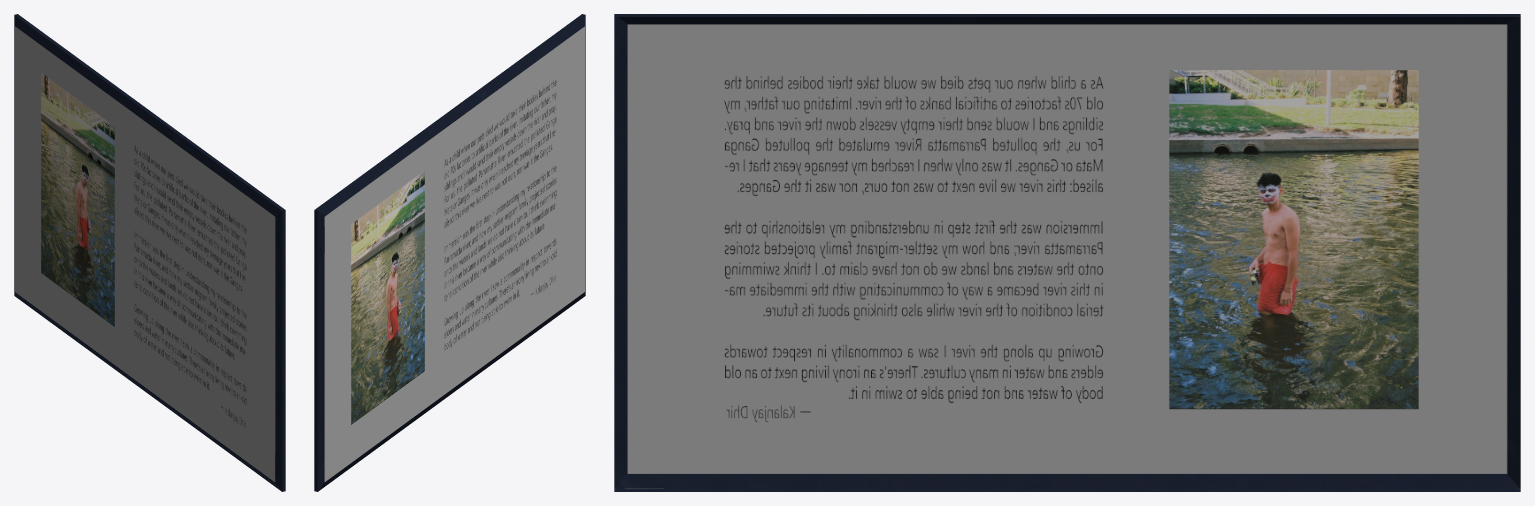
The model's file is Frame.Text.gltf.
The picture shows the model from 3 angles, left to right: view 1: azimuth 30°, elevation 25°; view 2: azimuth 150°, elevation 25°; view 3: azimuth 270°, elevation 25°; orthographic projection. The views are drawn at different scales.
Parts seen in each view (by area): view 1: Frame.Text; view 2: Frame.Text; view 3: Frame.Text.
Part boxes in pixels (box(x1,y1,x2,y2)): Frame.Text: box(14, 14, 285, 491); Frame.Text: box(314, 14, 585, 491); Frame.Text: box(614, 14, 1520, 491).
Size of the model in its own units: 0.0329 by 1.29 by 2.24.
1 material, 1 textured.
